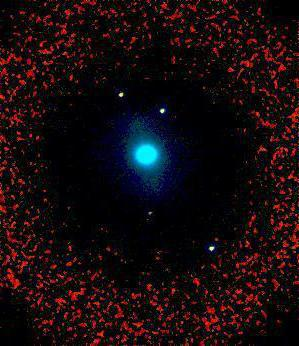star: (135, 199, 165, 229)
